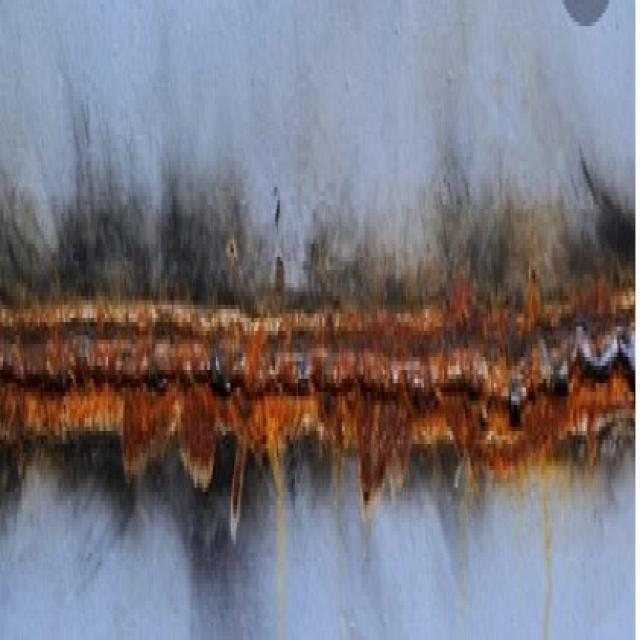Bad Weld: (1, 248, 631, 523)
